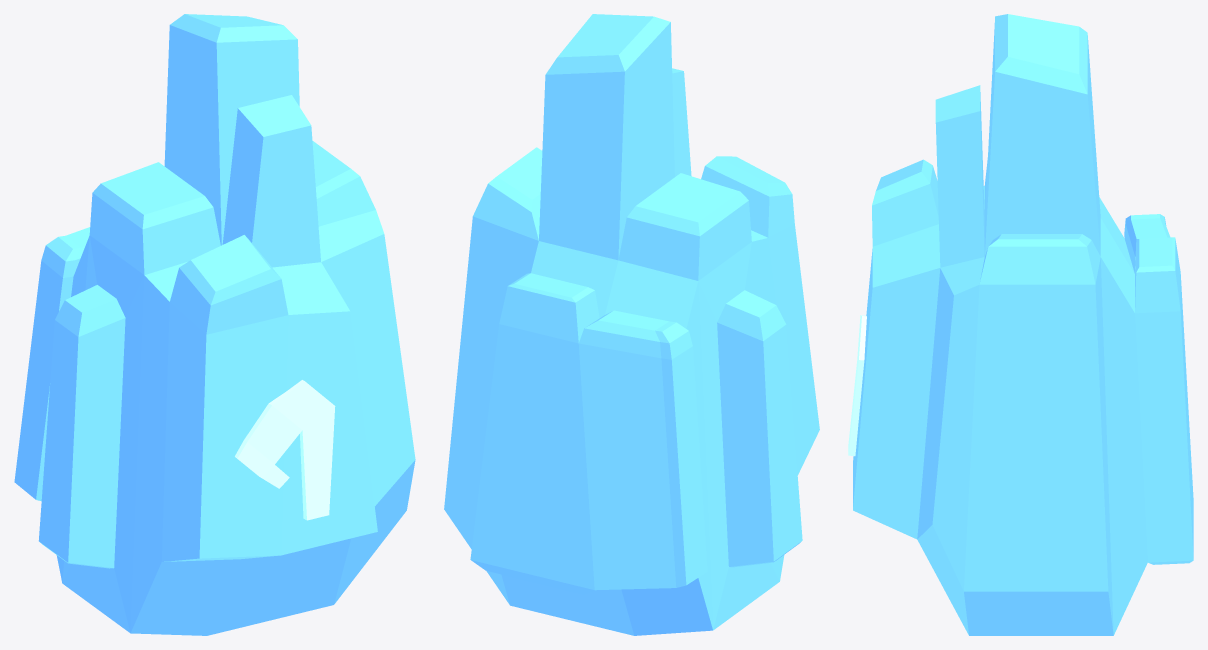
File: crystal_test.fbx
3 views of the same model, side by side, from view 1: azimuth 30°, elevation 25°; view 2: azimuth 150°, elevation 25°; view 3: azimuth 270°, elevation 25° (orthographic). The views are drawn at different scales.
Visible parts, largest first — view 1: Cube; view 2: Cube; view 3: Cube.
Boxes of the visible parts, x1,y1,x2,y2 form: Cube: (14, 14, 415, 635); Cube: (444, 14, 819, 635); Cube: (848, 14, 1193, 635).
Bounding box in the file's own units: 497 × 881 × 478.
